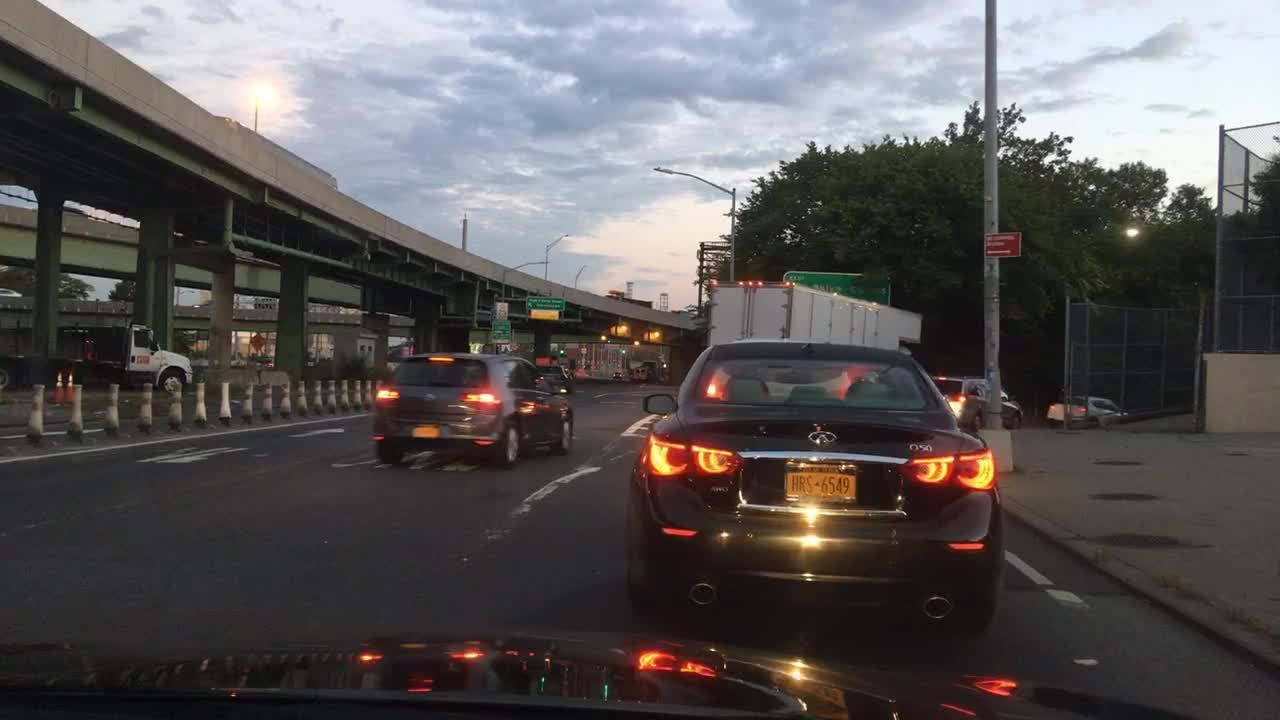Infiniti: (805, 428, 842, 446)
